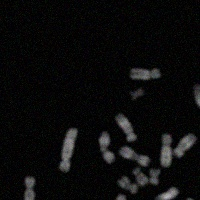chromosome: (59, 128, 77, 171), (119, 146, 149, 166), (172, 133, 195, 158), (116, 113, 136, 140), (99, 131, 114, 164), (160, 133, 171, 166), (193, 84, 200, 135), (130, 68, 160, 79), (22, 176, 35, 200), (155, 187, 178, 200), (118, 177, 137, 192), (133, 168, 148, 184), (131, 88, 144, 100), (150, 169, 159, 184), (109, 195, 125, 200), (184, 198, 200, 200)
